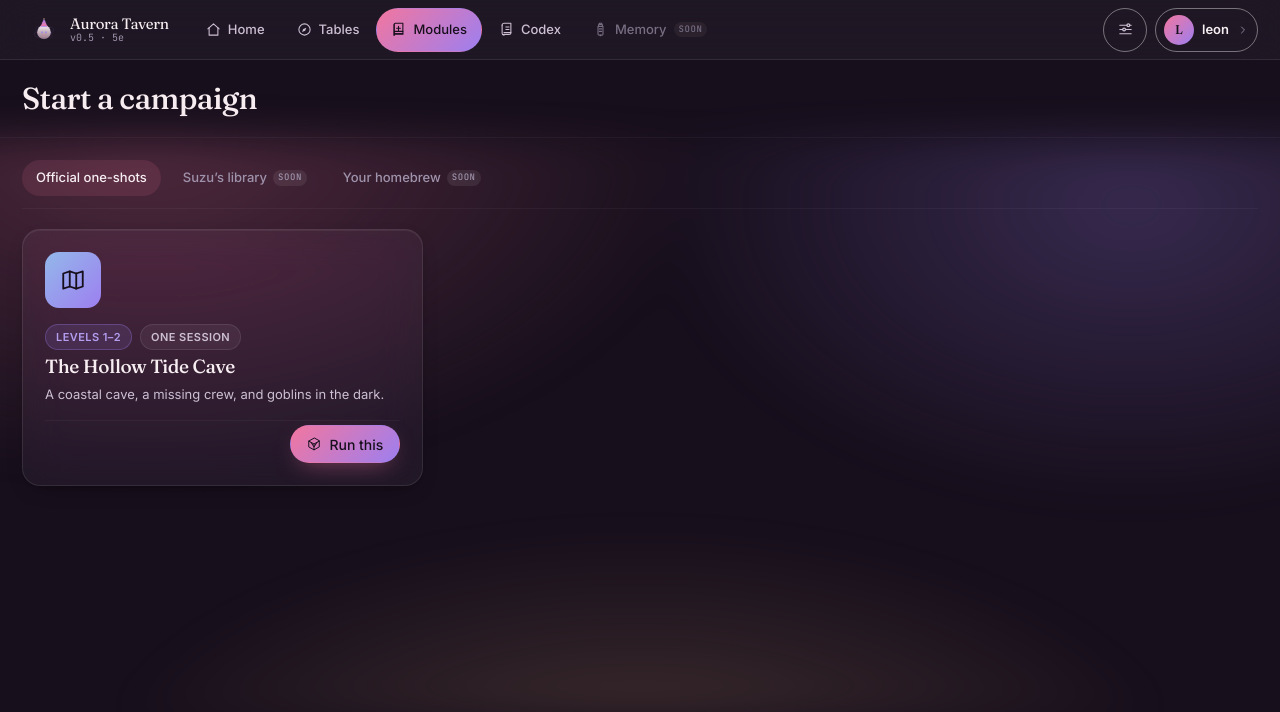
it: content_rating SFW interlock › forces SFW + disables Mature when the table is Public
Click the button "Run this". click: (345, 444)
box: [290, 425, 400, 463]
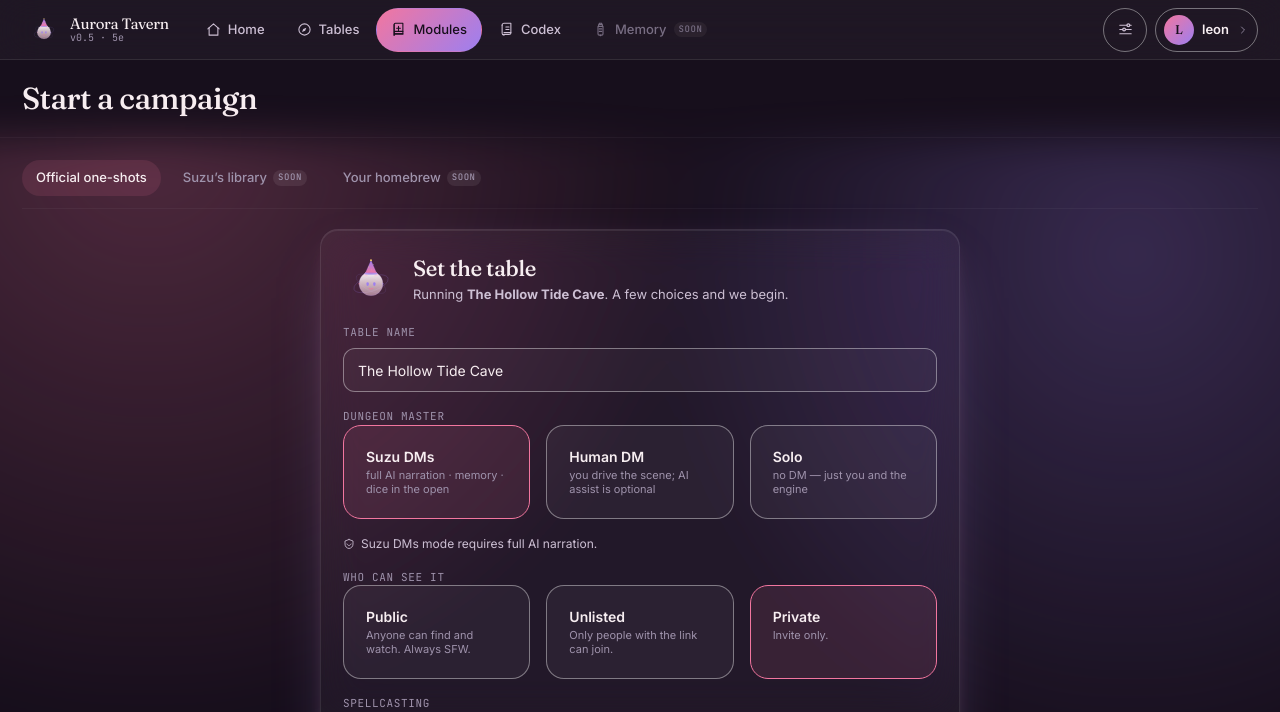
Click the radio button labelled "Public Anyone can find and watch. Always SFW.". click: (437, 632)
box: [343, 585, 530, 679]
(page scrolled)
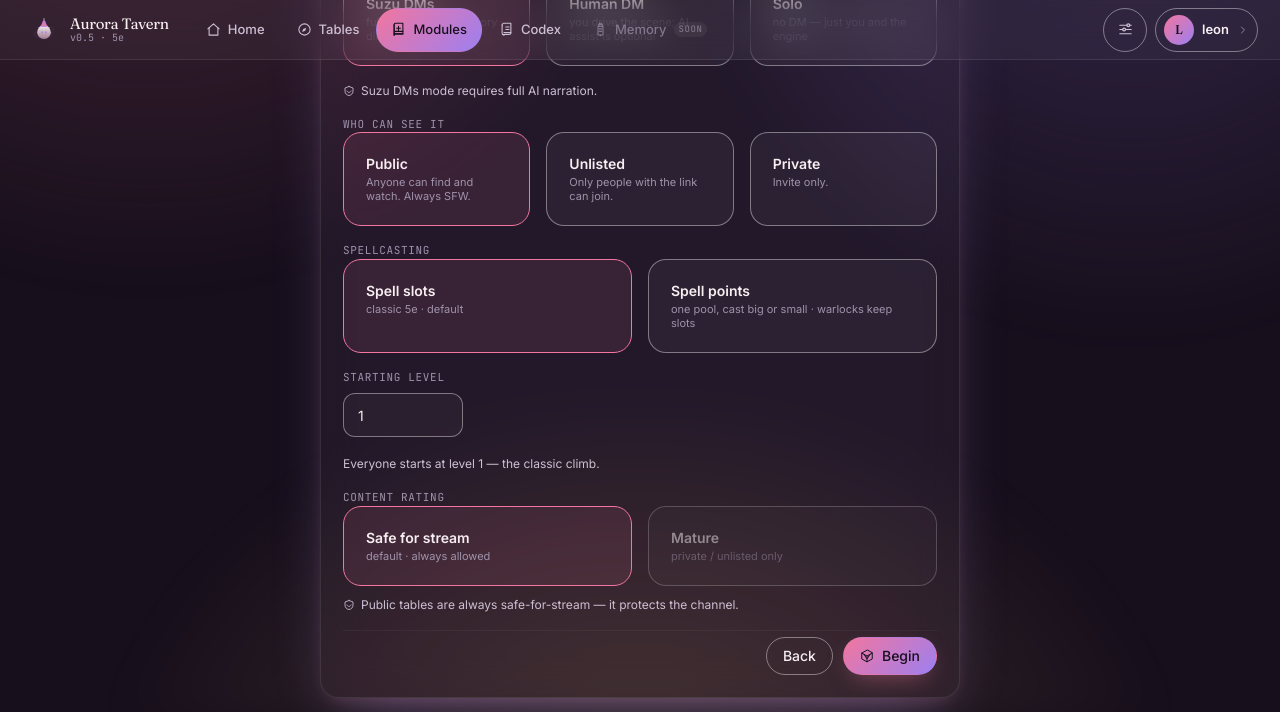
Expected: the radio button labelled "Mature private / unlisted only" is disabled, [648, 506, 937, 586]
Expected: the text "always safe-for-stream" is shown, [361, 597, 739, 612]
